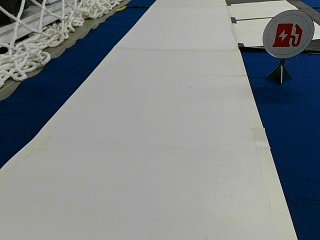battery: (262, 8, 312, 58)
